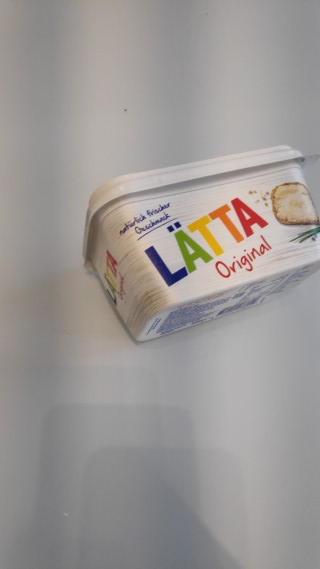laetta: (79, 143, 320, 345)
